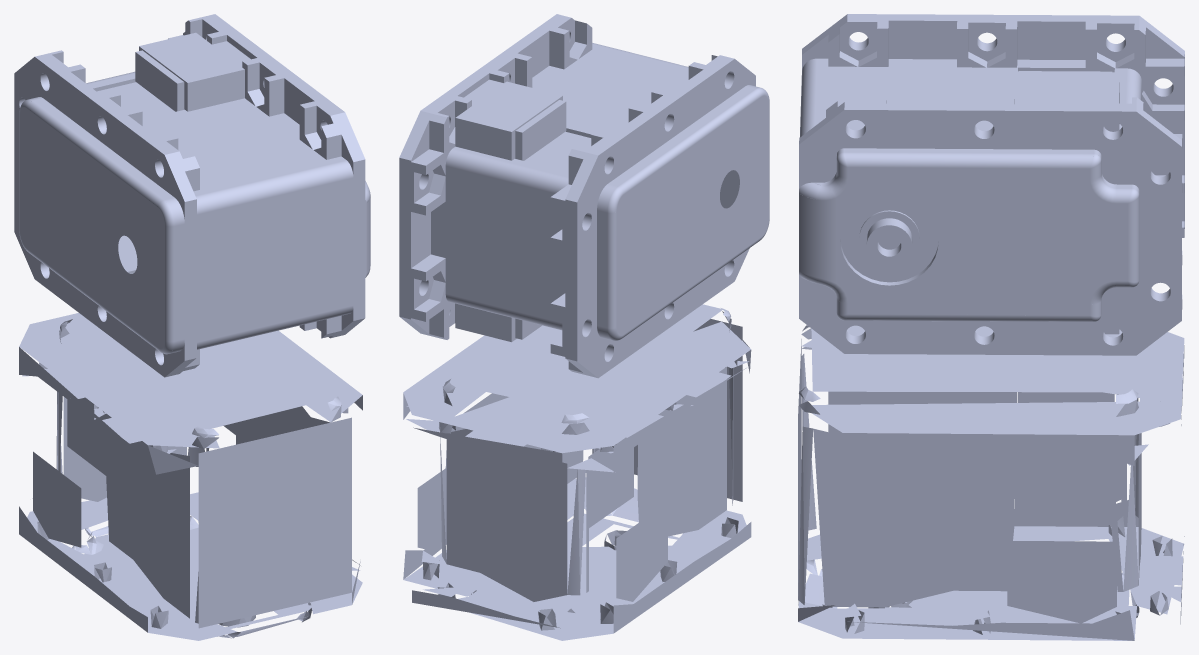
Rendered from part_22_opt.obj.
3 renders of one model, left to right at view 1: azimuth 30°, elevation 25°; view 2: azimuth 150°, elevation 25°; view 3: azimuth 270°, elevation 25°, orthographic. The views are drawn at different scales.
Parts seen in each view (by area): view 1: NONE_DC_Shell; view 2: NONE_DC_Shell; view 3: NONE_DC_Shell.
Part boxes in pixels (x1,y1,x2,y2): NONE_DC_Shell: (14, 14, 370, 640); NONE_DC_Shell: (399, 14, 769, 640); NONE_DC_Shell: (798, 14, 1184, 640).
Size of the model in its own units: 37.19 by 80.05 by 51.14.
